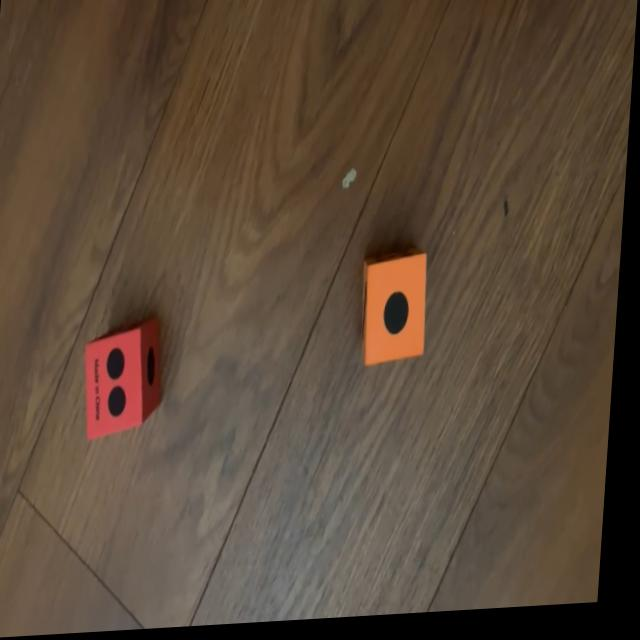cube: (86, 324, 170, 441)
